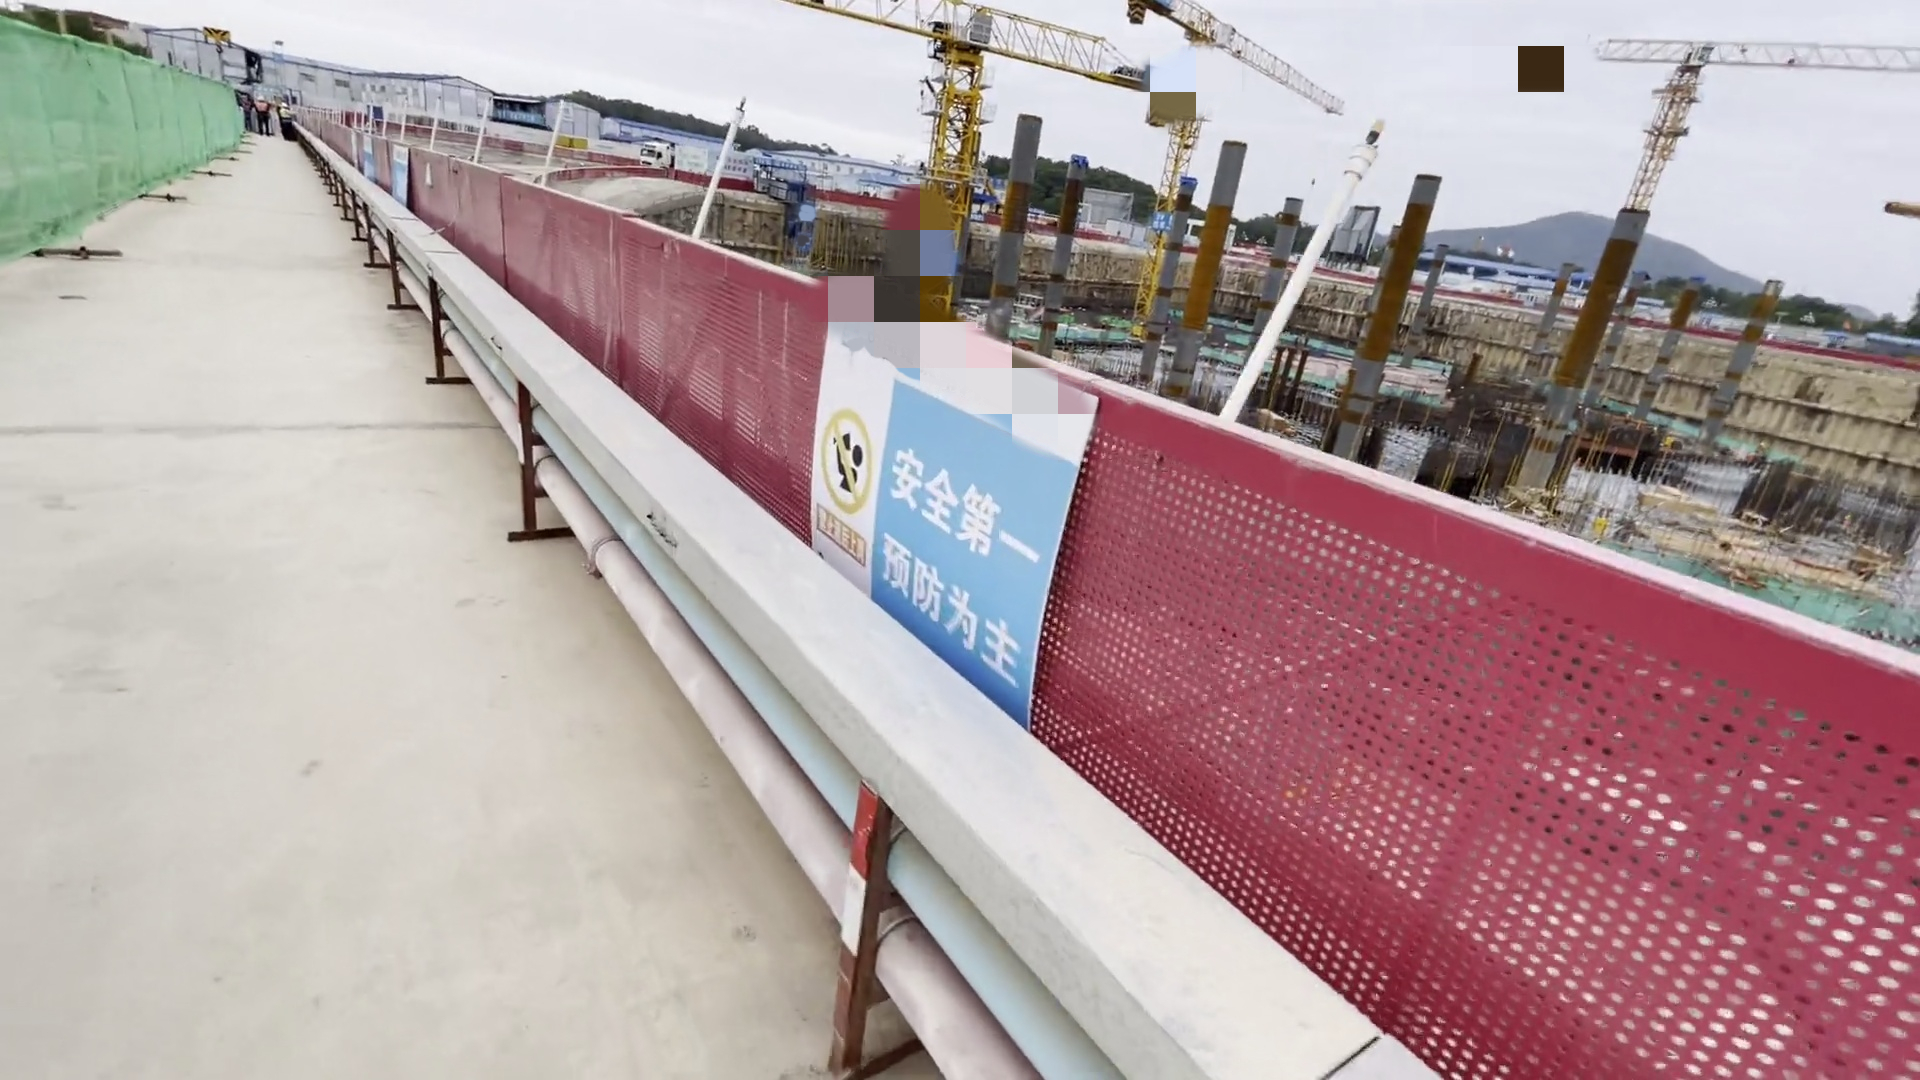fence: (279, 93, 1894, 1059)
hook: (210, 8, 235, 59)
person: (278, 97, 301, 147), (251, 92, 273, 139)
slogan: (804, 328, 1075, 674), (330, 127, 413, 214)
